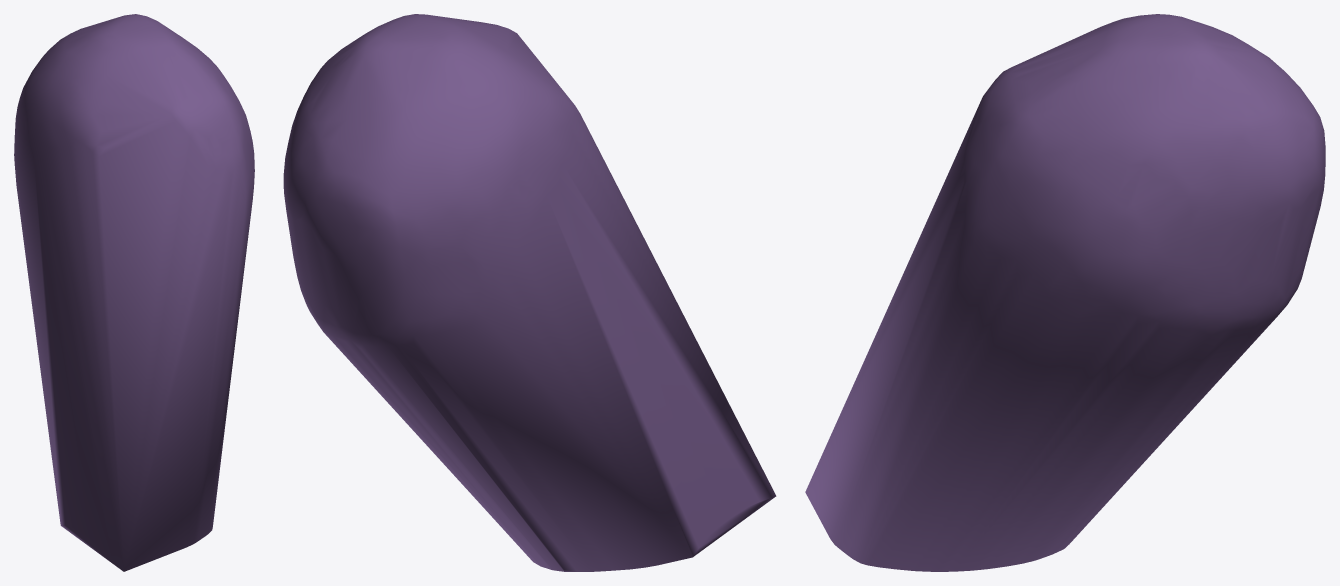
File: bee_toy_1_coacd_single_link_urdf_convex_piece_1.obj
The picture shows the model from 3 angles, left to right: view 1: azimuth 30°, elevation 25°; view 2: azimuth 150°, elevation 25°; view 3: azimuth 270°, elevation 25°; orthographic projection. The views are drawn at different scales.
Bounding box in the file's own units: 0.0617 × 0.1048 × 0.0894.
